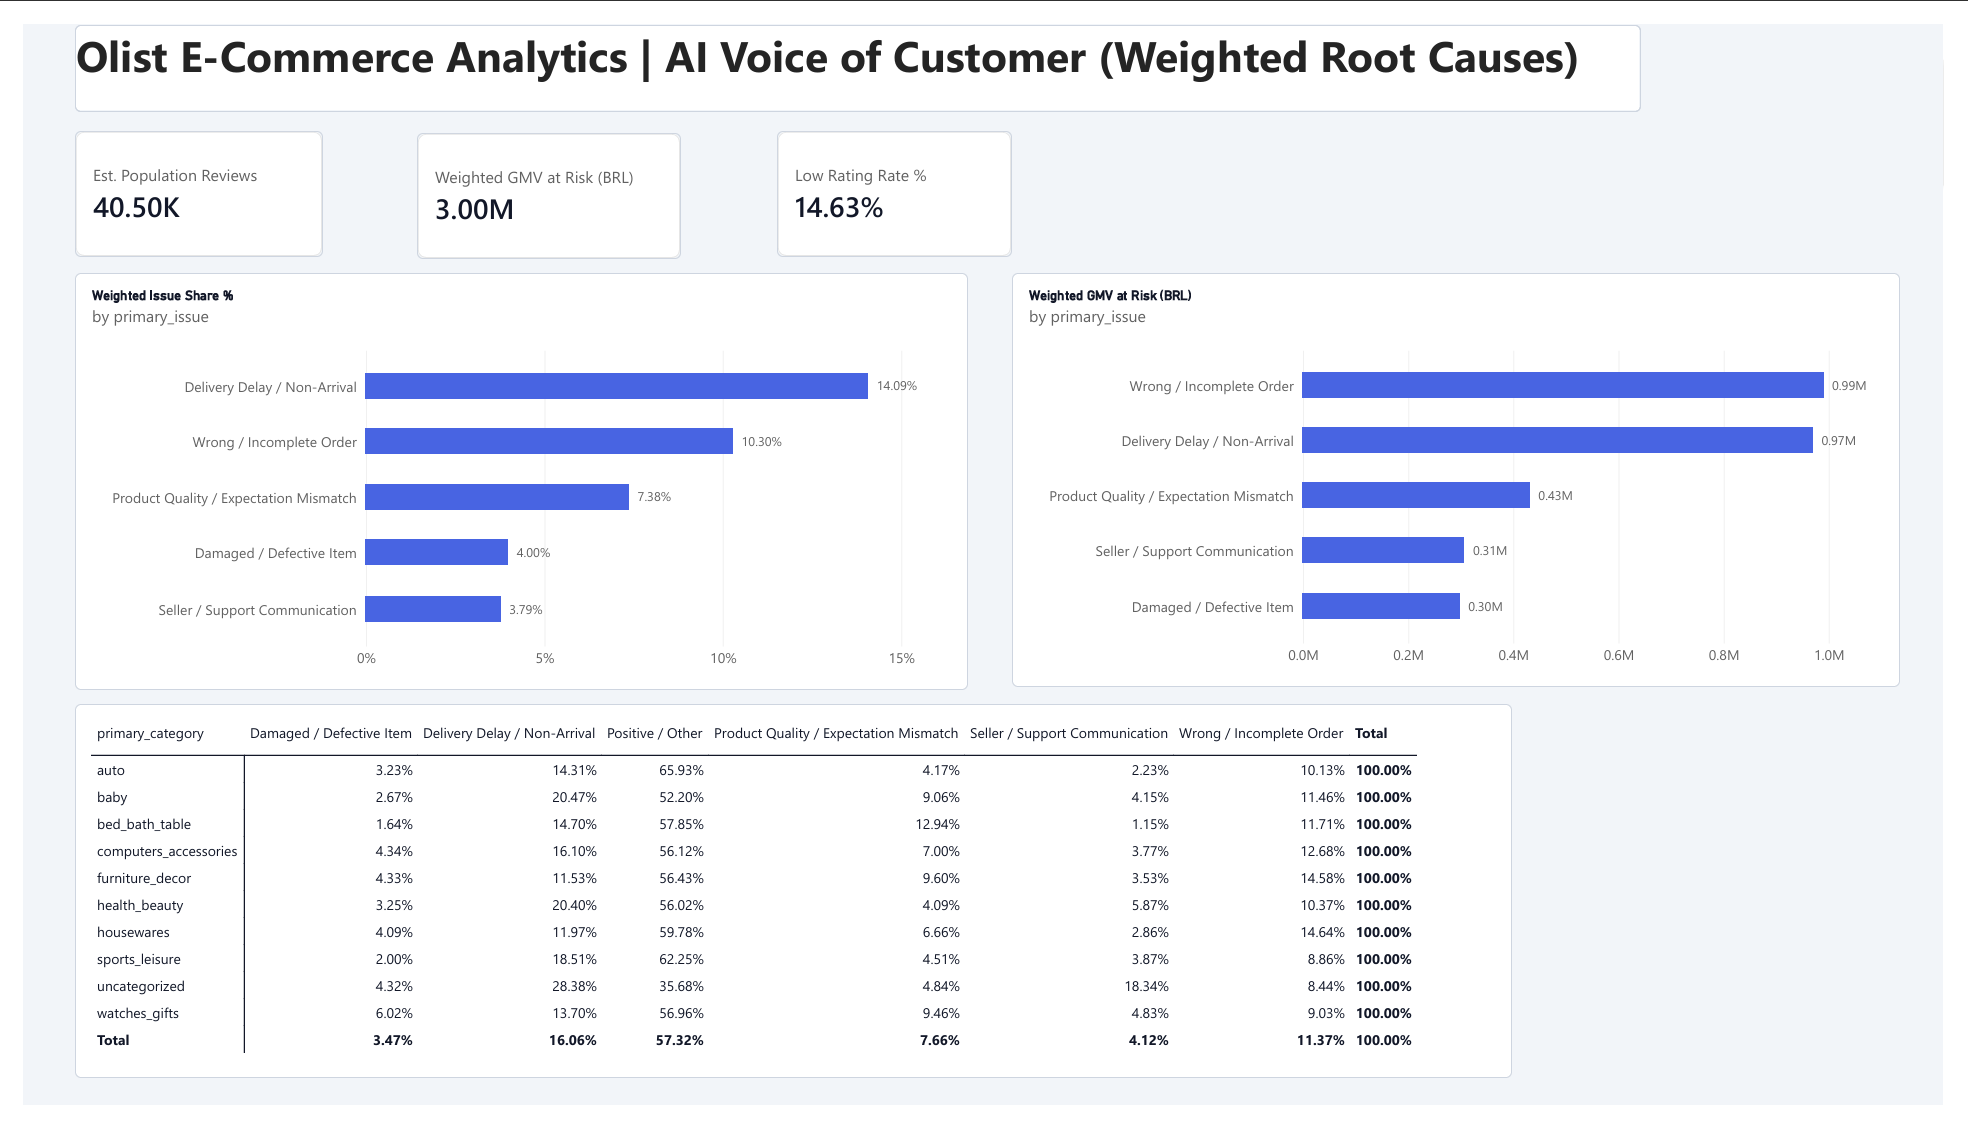

What the dashboard file says about the page in this screenshot:
{"tool":"powerbi","page":{"name":"AI Voice of Customer (Weighted Root Causes)","canvas":[1920,1080],"ordinal":1},"visuals":[{"type":"cardVisual","fields":{"Data":["_Measures.Est. Population Reviews"]},"box":[50.5,105.6,248,126.3],"z":0},{"type":"cardVisual","fields":{"Data":["_Measures.Weighted GMV at Risk (BRL)"]},"box":[392.7,107.9,264.1,126.3],"z":1000},{"type":"cardVisual","fields":{"Data":["_Measures.Low Rating Rate %"]},"box":[753.3,105.6,234.3,126.3],"z":2000},{"type":"clusteredBarChart","fields":{"Category":["vw_pbi_voc_weighted.primary_issue"],"Y":["_Measures.Weighted Issue Share %"]},"box":[50.5,248,893.4,415.7],"z":3000},{"type":"clusteredBarChart","fields":{"Category":["vw_pbi_voc_weighted.primary_issue"],"Y":["_Measures.Weighted GMV at Risk (BRL)"]},"box":[987.6,248,888.8,413.4],"z":4000},{"type":"pivotTable","fields":{"Columns":["vw_pbi_voc_weighted.primary_issue"],"Rows":["vw_pbi_orders.primary_category"],"Values":["_Measures.Weighted Issue Share %"]},"box":[50.5,677.5,1437.7,374.4],"z":5000},{"type":"shape","box":[50.5,0,1566.3,87.3],"z":5001},{"type":"textbox","box":[50.5,0,1566.3,87.3],"z":5002}]}

Visuals, with their boxes in screenshot pixels (x1, y1, x2, y2), scaled from the page's 1920x1080 canvas onto the 1968x1130 screenshot:
cardVisual - _Measures.Est. Population Reviews: l=52, t=110, r=306, b=243
cardVisual - _Measures.Weighted GMV at Risk (BRL): l=403, t=113, r=673, b=245
cardVisual - _Measures.Low Rating Rate %: l=772, t=110, r=1012, b=243
clusteredBarChart - vw_pbi_voc_weighted.primary_issue x _Measures.Weighted Issue Share %: l=52, t=259, r=967, b=694
clusteredBarChart - vw_pbi_voc_weighted.primary_issue x _Measures.Weighted GMV at Risk (BRL): l=1012, t=259, r=1923, b=692
pivotTable - vw_pbi_voc_weighted.primary_issue x vw_pbi_orders.primary_category: l=52, t=709, r=1525, b=1101
shape: l=52, t=0, r=1657, b=91
textbox: l=52, t=0, r=1657, b=91
